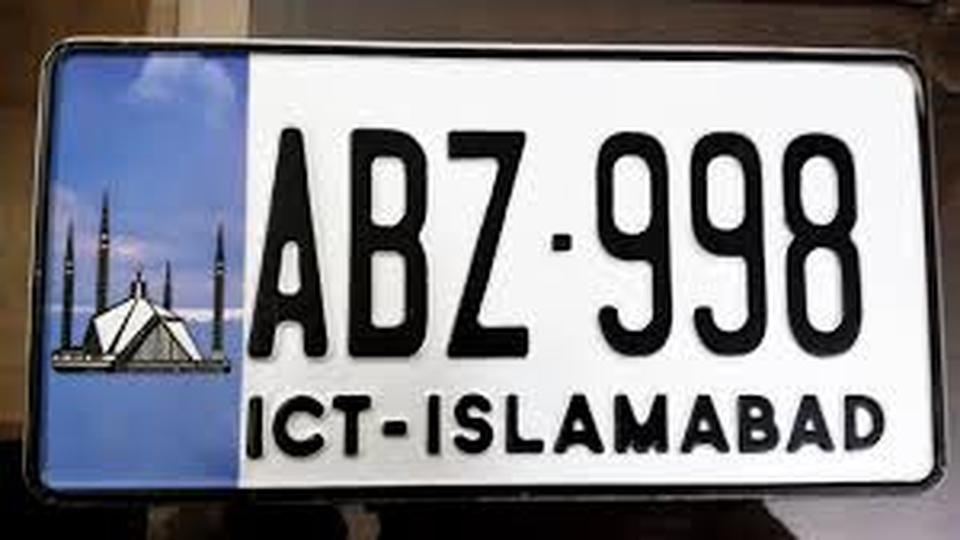NumberPlate: (58, 35, 930, 486)
